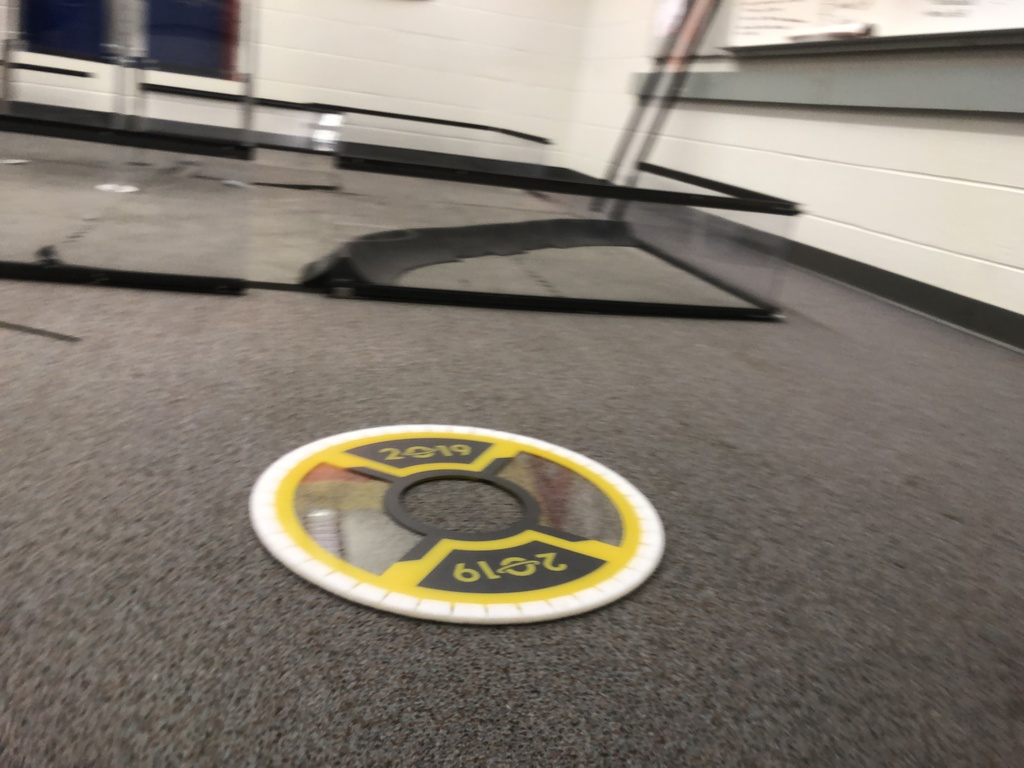hatch_panel: (240, 419, 693, 638)
